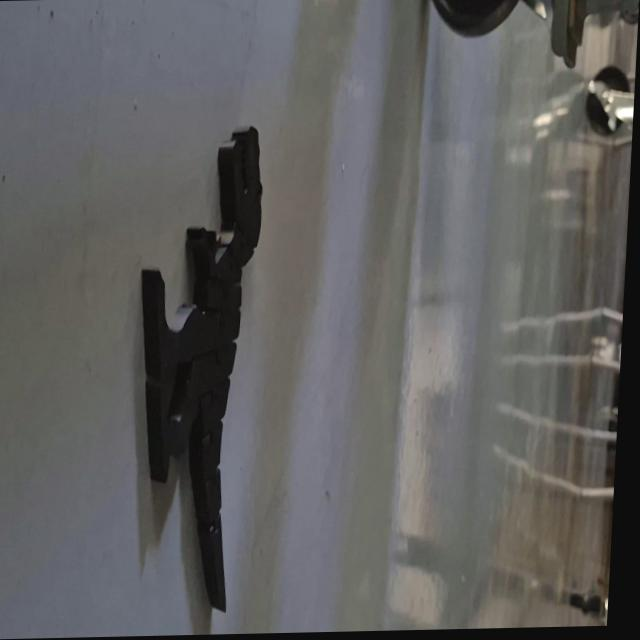dino: (122, 123, 267, 616)
